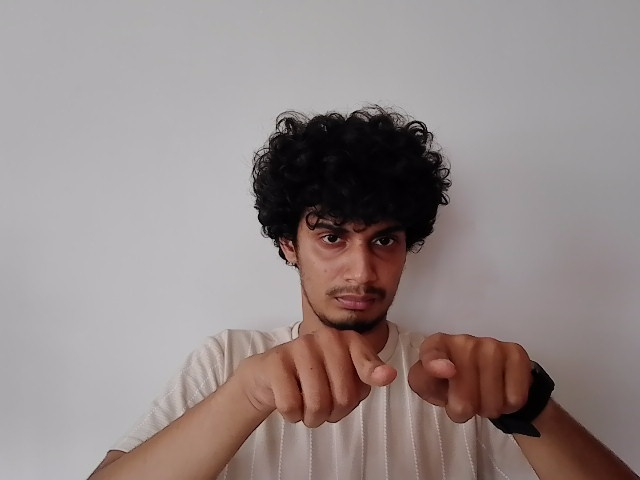same: (247, 325, 527, 423)
